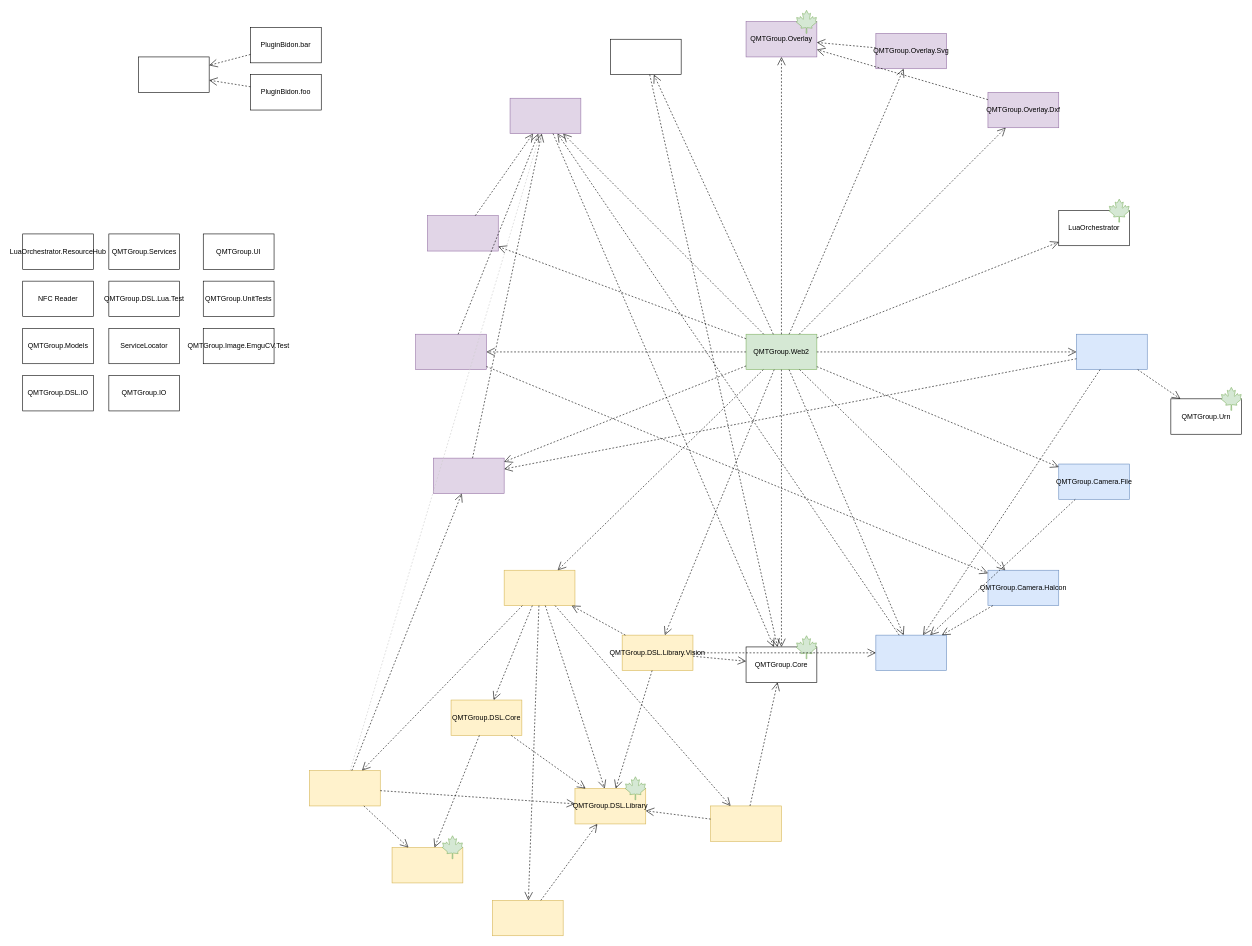
Some shapes in this 1252 by 946 pixel diagram are drawn without their labels. Each missing label, with the centre of its shape:
PluginBidon: the point at 173,74
QMTGroup.Camera: the point at 911,653
QMTGroup.Camera.EmguCV: the point at 1111,352
QMTGroup.DSL.Hub: the point at 427,865
QMTGroup.DSL.Library.EmguCV: the point at 344,788
QMTGroup.DSL.Library.Math: the point at 527,918
QMTGroup.DSL.Library.Standard: the point at 745,823
QMTGroup.DSL.Lua: the point at 539,588
QMTGroup.Image: the point at 545,116
QMTGroup.Image.EmguCV: the point at 468,476
QMTGroup.Image.FFMPEG: the point at 450,352
QMTGroup.ImageFilters: the point at 462,233
QMTGroup.WebLogger: the point at 645,57
